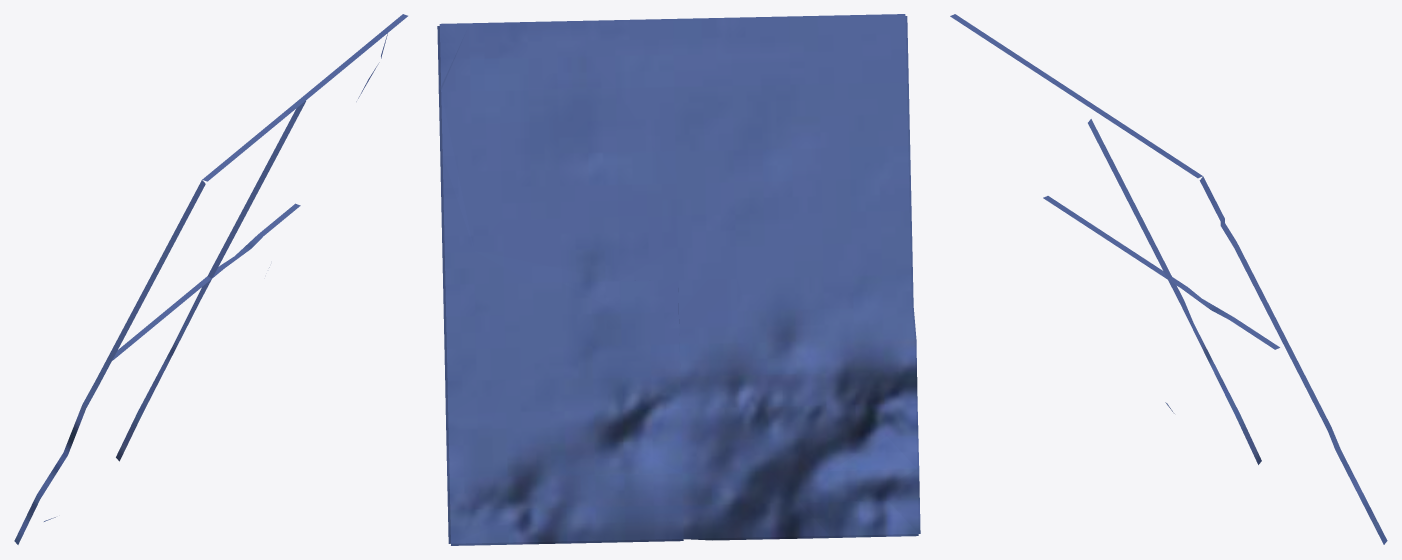
3 views of the same model, side by side, from view 1: azimuth 30°, elevation 25°; view 2: azimuth 150°, elevation 25°; view 3: azimuth 270°, elevation 25° (orthographic). The views are drawn at different scales.
Size of the model in its own units: 39245 by 36108 by 33819.
1 material, 1 textured.
